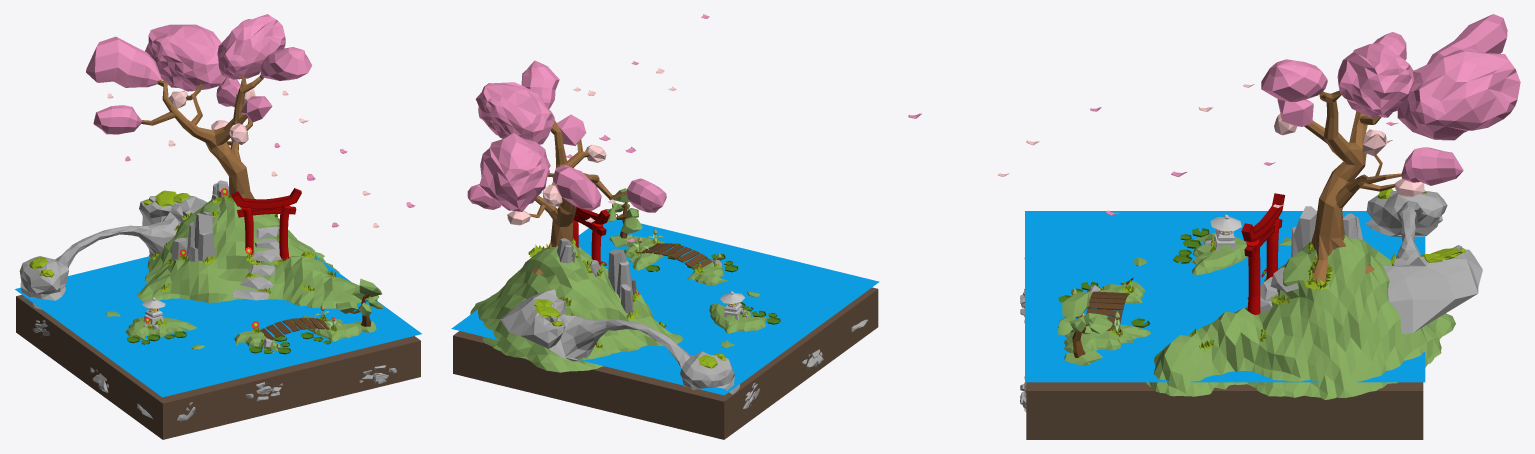
Rendered from Asia.fbx.
3 views of the same model, side by side, from view 1: azimuth 30°, elevation 25°; view 2: azimuth 150°, elevation 25°; view 3: azimuth 270°, elevation 25° (orthographic). The views are drawn at different scales.
Visible parts, largest first — view 1: LowPolyWaterv2, Cube, Terrain_Mountain_Grass_01, Terrain_Rock_Archway_01, Vegetation_Modular_Tree_Foliage_Clump_Large_05 (1), Vegetation_Tree_Trunk_05, Vegetation_Modular_Tree_Foliage_Clump_Large_05, Vegetation_Modular_Tree_Foliage_Clump_Large_04, Prop_Archway_Timber_Asian_Elven_01, Vegetation_Modular_Tree_Foliage_Clump_Small_11, Rock_Large_17, Vegetation_Modular_Tree_Foliage_Clump_Large_03 (+8 smaller); view 2: LowPolyWaterv2, Cube, Terrain_Mountain_Grass_01, Terrain_Rock_Archway_01, Vegetation_Modular_Tree_Foliage_Clump_Large_05 (1), Vegetation_Modular_Tree_Foliage_Clump_Large_05, Vegetation_Tree_Trunk_05, Vegetation_Modular_Tree_Foliage_Clump_Large_04, Vegetation_Modular_Tree_Foliage_Clump_Small_11, Prop_Archway_Timber_Asian_Elven_01, Vegetation_Modular_Tree_Foliage_Clump_Large_03, Terrain_Rock_Mound_01 (+8 smaller); view 3: LowPolyWaterv2, Terrain_Mountain_Grass_01, Cube, Terrain_Rock_Archway_01, Vegetation_Modular_Tree_Foliage_Clump_Large_05 (1), Vegetation_Tree_Trunk_05, Vegetation_Modular_Tree_Foliage_Clump_Large_05, Prop_Archway_Timber_Asian_Elven_01, Vegetation_Modular_Tree_Foliage_Clump_Small_11, Vegetation_Modular_Tree_Foliage_Clump_Small_12, Vegetation_Modular_Tree_Foliage_Clump_Large_04, Vegetation_Tree_Asian_04 (+6 smaller).
Part boxes in pixels (<box>): LowPolyWaterv2: <box>15,256,421,397</box>; Cube: <box>16,295,420,439</box>; Terrain_Mountain_Grass_01: <box>137,194,366,308</box>; Terrain_Rock_Archway_01: <box>19,195,207,309</box>; Vegetation_Modular_Tree_Foliage_Clump_Large_05 (1): <box>145,24,226,91</box>; Vegetation_Tree_Trunk_05: <box>141,75,263,207</box>; Vegetation_Modular_Tree_Foliage_Clump_Large_05: <box>217,14,285,79</box>; Vegetation_Modular_Tree_Foliage_Clump_Large_04: <box>86,36,161,87</box>; Prop_Archway_Timber_Asian_Elven_01: <box>231,188,301,260</box>; Vegetation_Modular_Tree_Foliage_Clump_Small_11: <box>260,47,312,80</box>; Rock_Large_17: <box>187,213,215,261</box>; Vegetation_Modular_Tree_Foliage_Clump_Large_03: <box>93,105,141,134</box>; LowPolyWaterv2: <box>451,220,879,395</box>; Cube: <box>453,287,878,439</box>; Terrain_Mountain_Grass_01: <box>470,245,682,372</box>; Terrain_Rock_Archway_01: <box>500,289,739,394</box>; Vegetation_Modular_Tree_Foliage_Clump_Large_05 (1): <box>479,133,550,211</box>; Vegetation_Modular_Tree_Foliage_Clump_Large_05: <box>476,82,554,144</box>; Vegetation_Tree_Trunk_05: <box>529,120,626,274</box>; Vegetation_Modular_Tree_Foliage_Clump_Large_04: <box>553,165,601,210</box>; Vegetation_Modular_Tree_Foliage_Clump_Small_11: <box>521,60,559,109</box>; Prop_Archway_Timber_Asian_Elven_01: <box>573,206,609,265</box>; Vegetation_Modular_Tree_Foliage_Clump_Large_03: <box>626,178,666,212</box>; Terrain_Rock_Mound_01: <box>709,303,767,333</box>; LowPolyWaterv2: <box>1025,211,1425,382</box>; Terrain_Mountain_Grass_01: <box>1146,235,1455,399</box>; Cube: <box>1026,382,1423,439</box>; Terrain_Rock_Archway_01: <box>1365,191,1482,333</box>; Vegetation_Modular_Tree_Foliage_Clump_Large_05 (1): <box>1397,48,1520,140</box>; Vegetation_Tree_Trunk_05: <box>1304,70,1413,283</box>; Vegetation_Modular_Tree_Foliage_Clump_Large_05: <box>1337,43,1414,117</box>; Prop_Archway_Timber_Asian_Elven_01: <box>1241,193,1285,314</box>; Vegetation_Modular_Tree_Foliage_Clump_Small_11: <box>1261,59,1327,101</box>; Vegetation_Modular_Tree_Foliage_Clump_Small_12: <box>1401,147,1463,185</box>; Vegetation_Modular_Tree_Foliage_Clump_Large_04: <box>1427,14,1507,64</box>; Vegetation_Tree_Asian_04: <box>1057,292,1112,357</box>.
Size of the model in its own units: 11.38 by 10.66 by 16.13.
